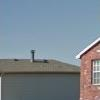Chimney: (26, 43, 37, 65)
